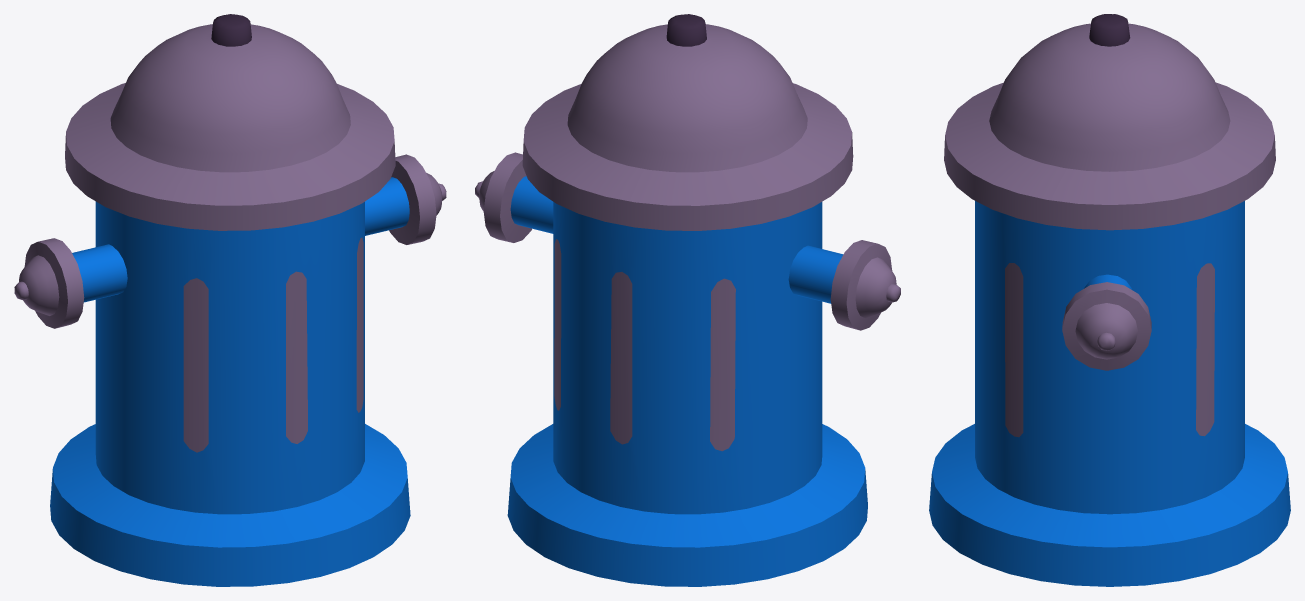
File: Fire_Hydrant_HP_.fbx
3 views of the same model, side by side, from view 1: azimuth 30°, elevation 25°; view 2: azimuth 150°, elevation 25°; view 3: azimuth 270°, elevation 25° (orthographic).
Parts seen in each view (by area): view 1: hydrant001; view 2: hydrant001; view 3: hydrant001.
Part boxes in pixels (bbox=[...]): hydrant001: bbox=[14, 14, 446, 586]; hydrant001: bbox=[475, 14, 900, 586]; hydrant001: bbox=[929, 14, 1290, 586].
Bounding box in the file's own units: 0.8757 × 0.9684 × 0.6459.
1 material, 1 textured.
